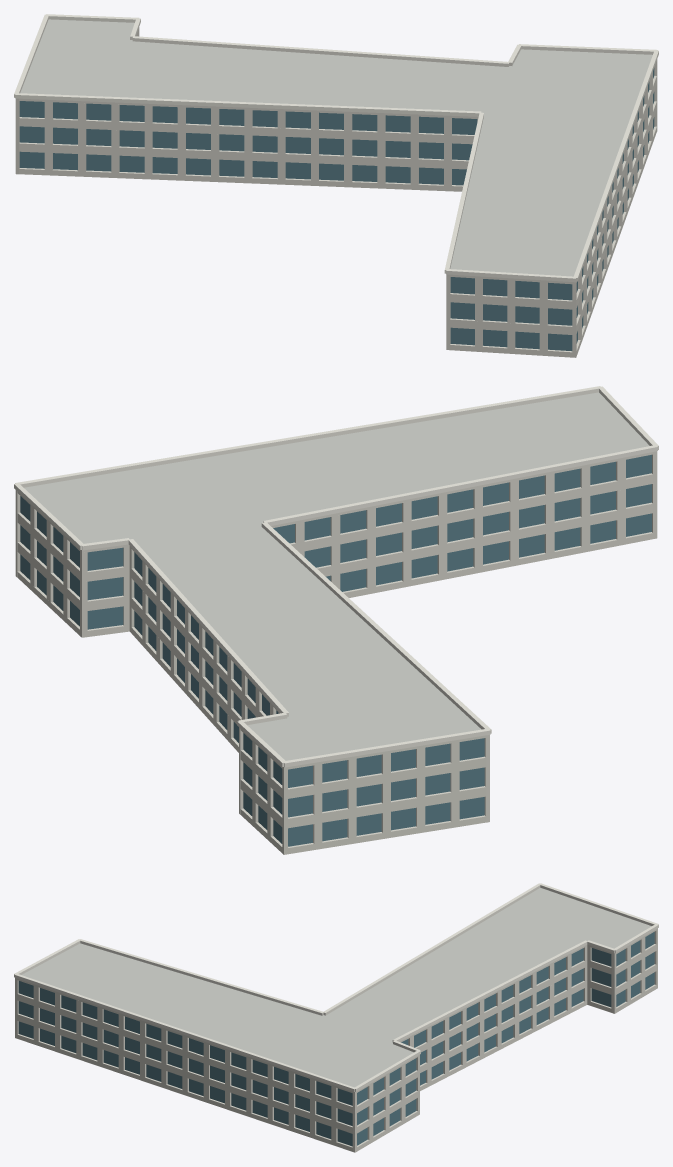
File: sb_1556523915.far.glb
3 renders of one model, top to bottom at view 1: azimuth 30°, elevation 25°; view 2: azimuth 150°, elevation 25°; view 3: azimuth 270°, elevation 25°, orthographic. The views are drawn at different scales.
Parts seen in each view (by area): view 1: roof, wall, glass, trim; view 2: roof, wall, glass, trim; view 3: roof, wall, glass, trim.
Part boxes in pixels (<box>): roof: <box>20,19,652,276</box>; wall: <box>15,27,657,357</box>; glass: <box>19,68,654,351</box>; trim: <box>14,14,658,282</box>; roof: <box>24,392,649,760</box>; wall: <box>15,451,657,854</box>; glass: <box>20,454,651,846</box>; trim: <box>14,386,658,767</box>; roof: <box>22,888,651,1087</box>; wall: <box>15,928,657,1152</box>; glass: <box>18,932,654,1146</box>; trim: <box>14,883,658,1091</box>.
Size of the model in its own units: 67.45 by 9.74 by 89.21.
